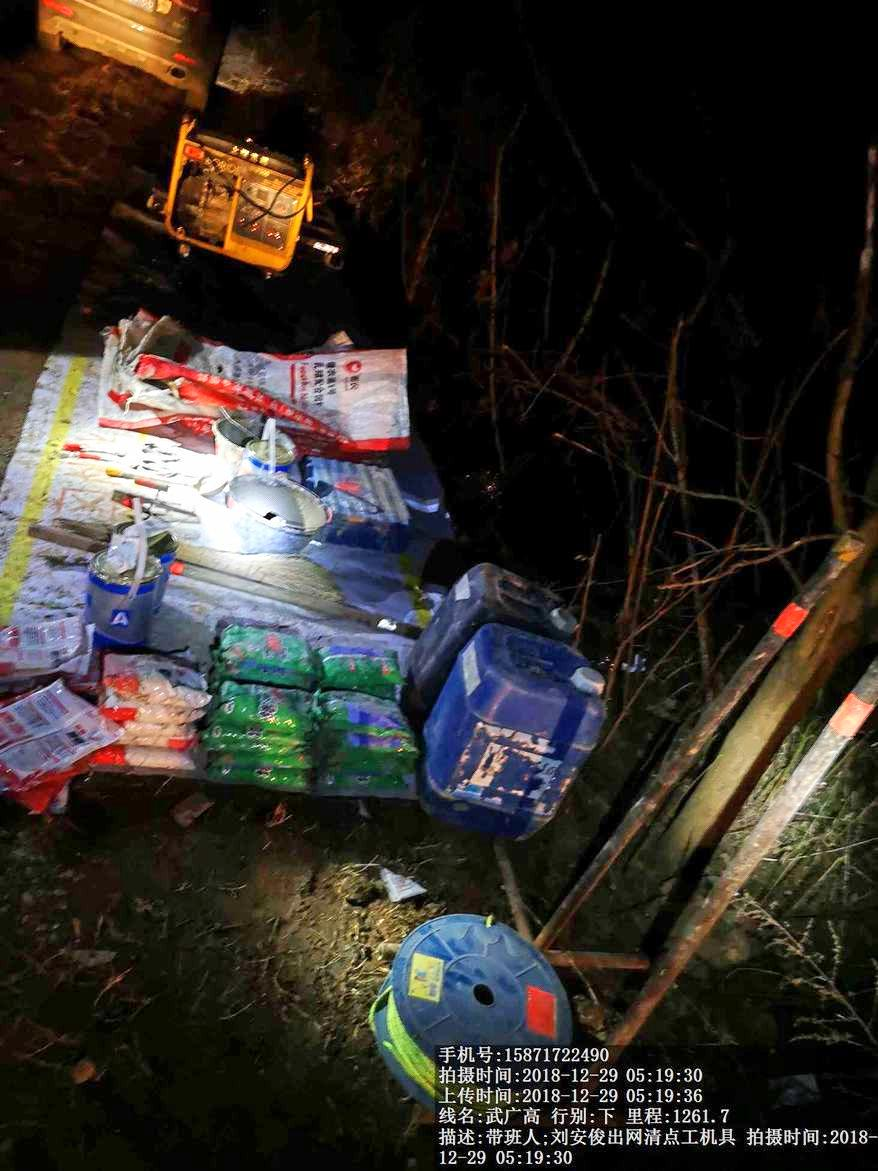BZD: (94, 333, 381, 438)
DJ: (161, 118, 326, 267)
SLT: (419, 625, 598, 832)
SNT: (224, 472, 334, 554)
